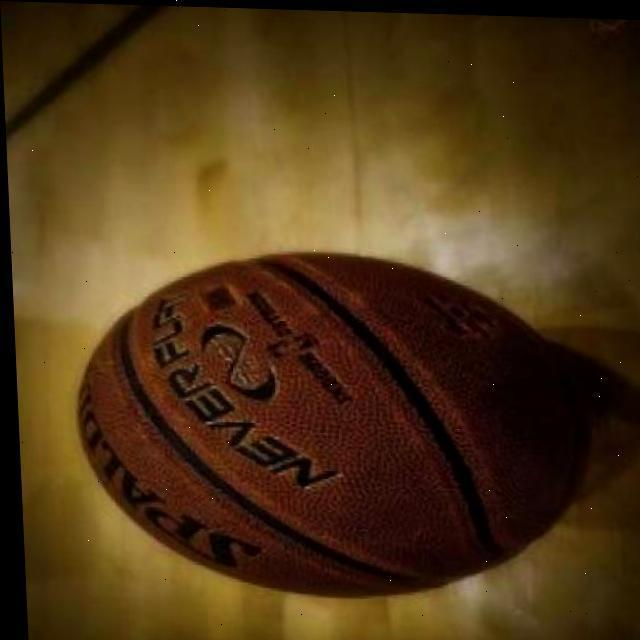Basketball: (80, 252, 584, 596)
